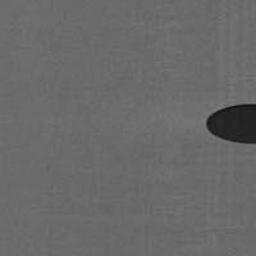Punching: (206, 102, 256, 145)
